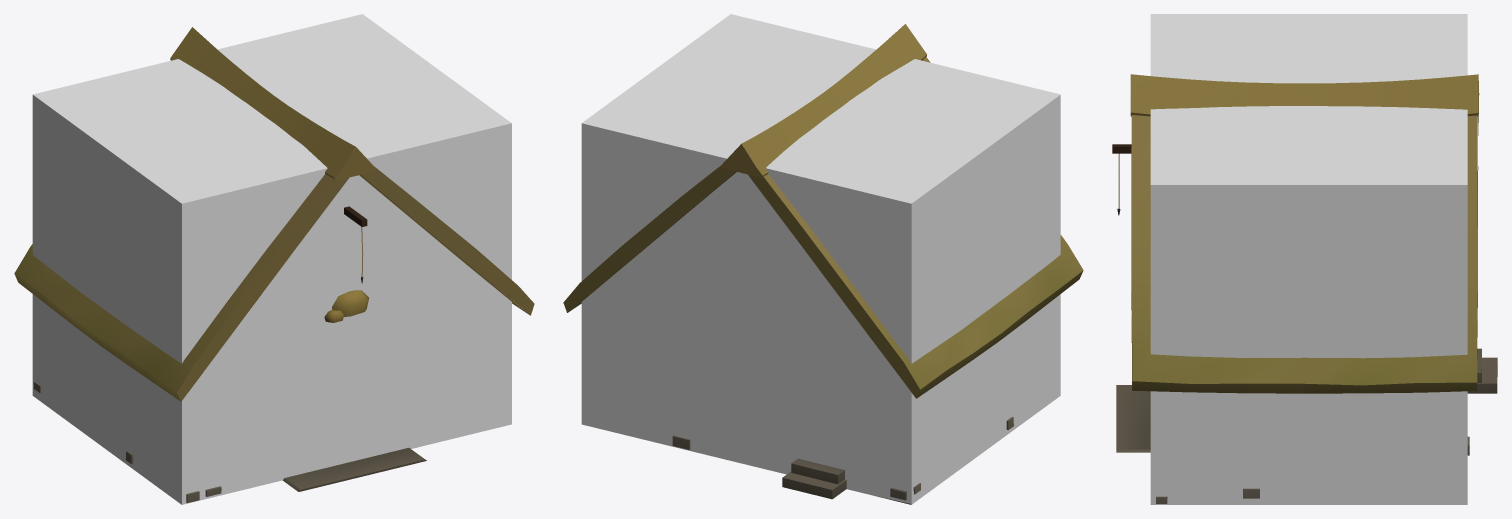
File: barn.glb
3 views of the same model, side by side, from view 1: azimuth 30°, elevation 25°; view 2: azimuth 150°, elevation 25°; view 3: azimuth 270°, elevation 25° (orthographic). The views are drawn at different scales.
Parts seen in each view (by area): view 1: COL_body, barn; view 2: COL_body, barn; view 3: COL_body, barn.
Boxes of the visible parts, <box> form: COL_body: <box>32,14,511,504</box>; barn: <box>14,27,534,503</box>; COL_body: <box>581,14,1060,504</box>; barn: <box>563,24,1083,504</box>; COL_body: <box>1150,14,1467,504</box>; barn: <box>1112,74,1497,503</box>.
Bounding box in the file's own units: 10.03 × 8.69 × 8.79.
